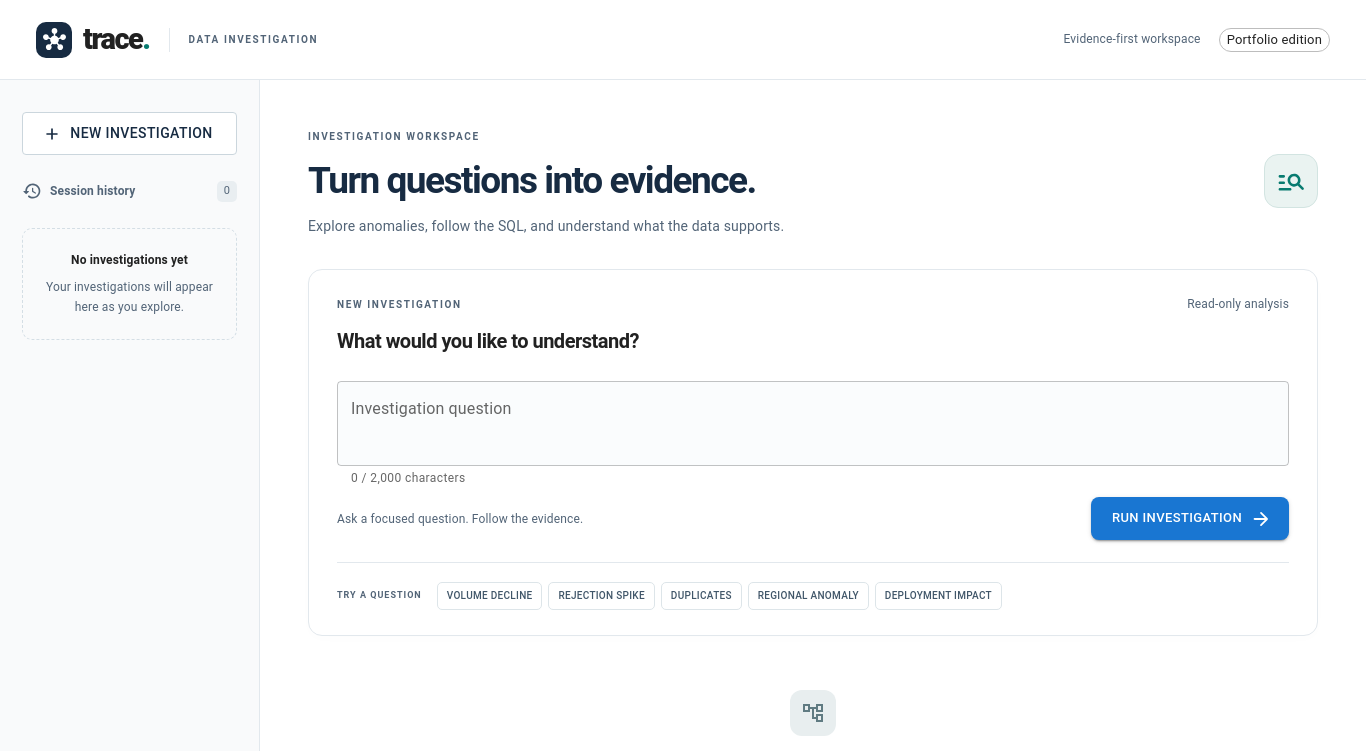
Test: keeps a created investigation available when GET fails
The image size is (1366, 751).
What coordinates should you click on to do the following:
click the button "Volume decline"
I would click on:
 (490, 596)
Its box is [437,582,542,610].
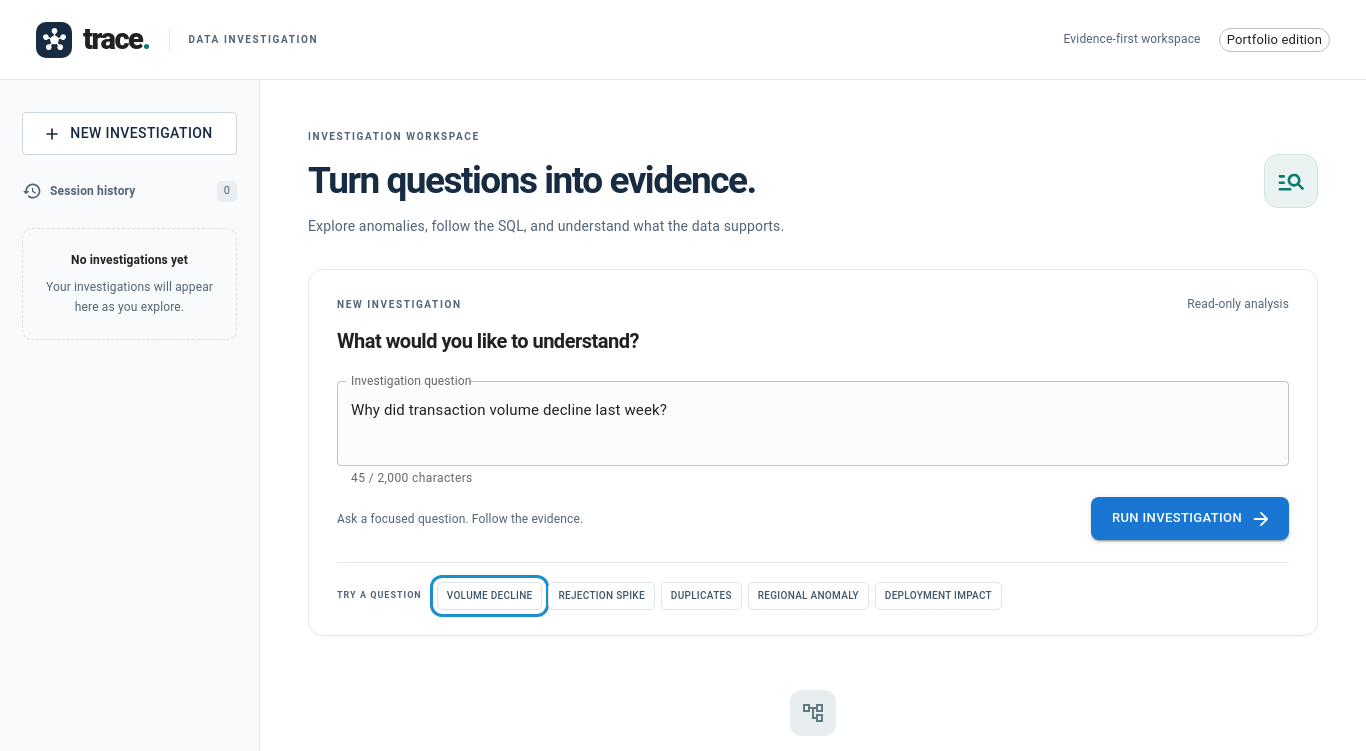
What coordinates should you click on to do the following:
click the button "Run investigation"
I would click on:
 (1190, 519)
Its box is [1091,497,1289,540].
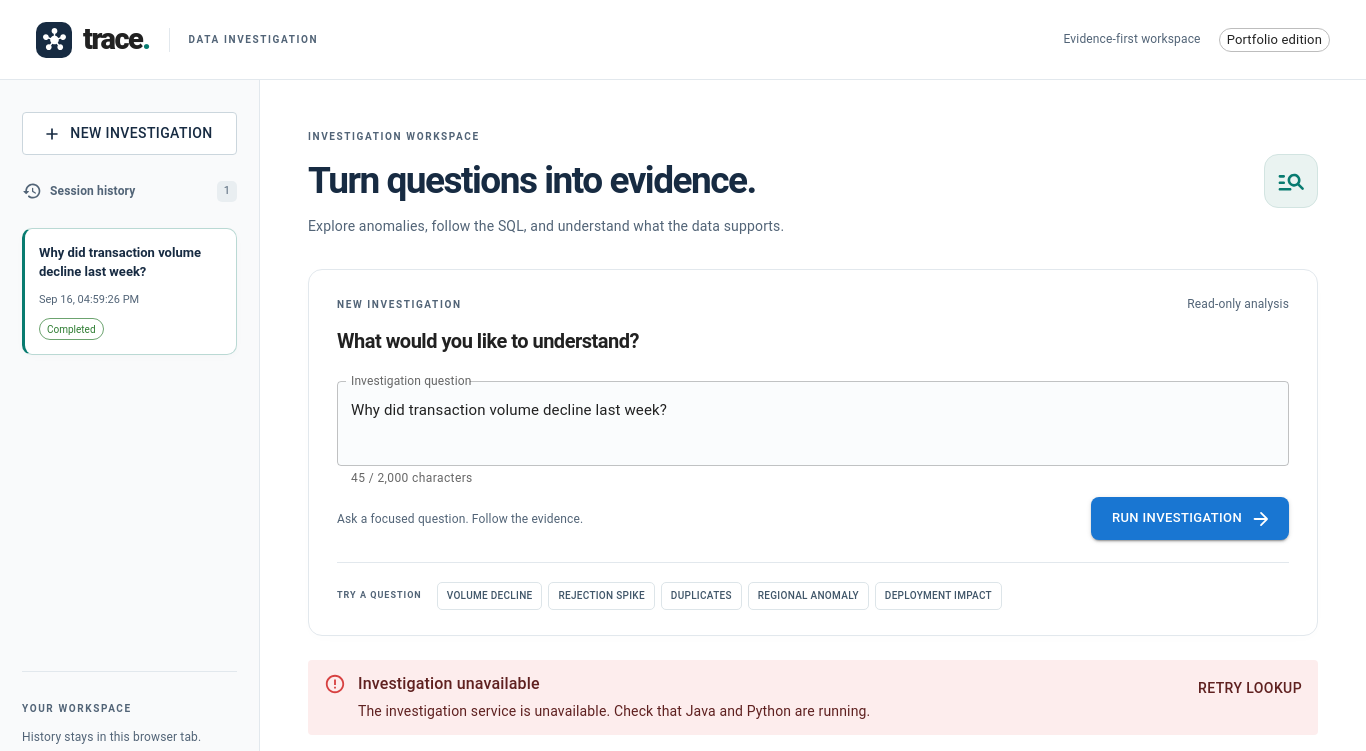
Expected: the button "Retry lookup" is shown, [1190,670,1310,706]
Expected: the navigation bar named "Investigation history" shows "Why did transaction volume decline last week?", [22,228,237,355]
